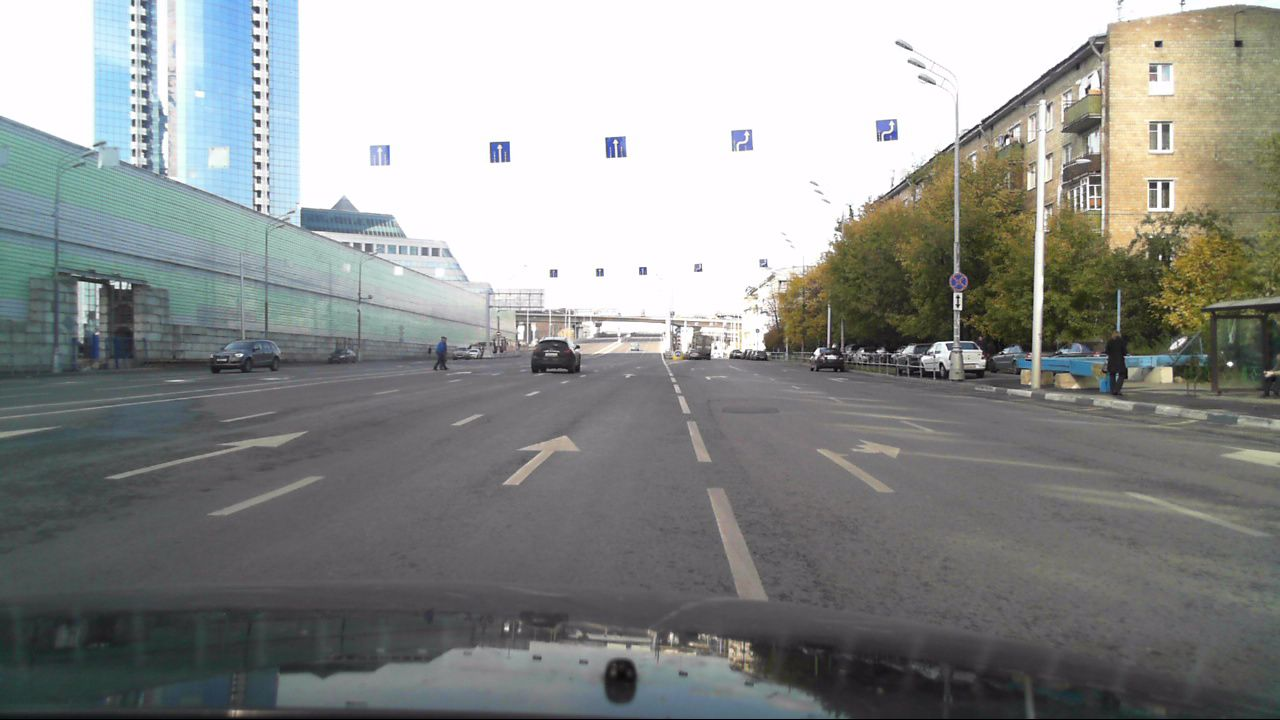No Parking: (948, 272, 968, 293)
